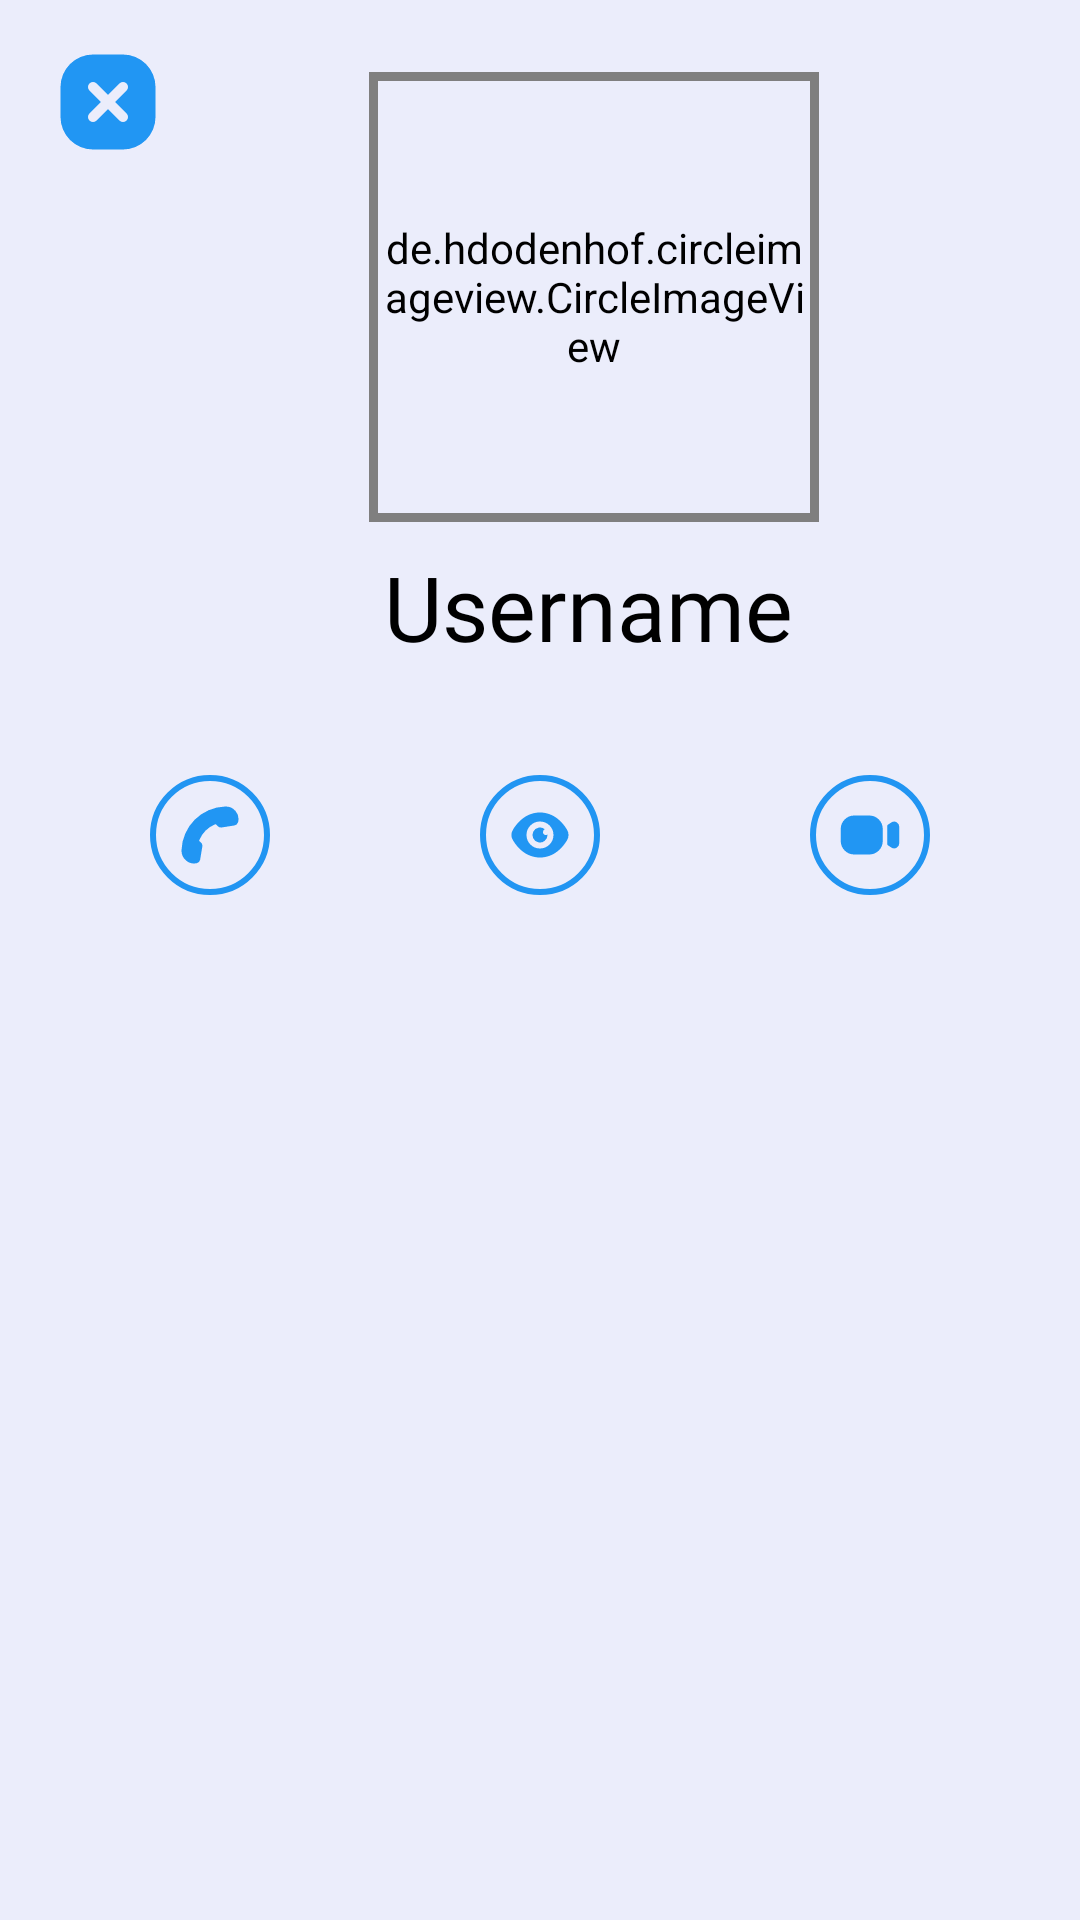

Icon bounding boxes for this 1080px x 1920px phone screenshot, format rect(x1, y1, x2, y2):
cancel: rect(60, 54, 156, 150)
video call: rect(810, 775, 930, 895)
